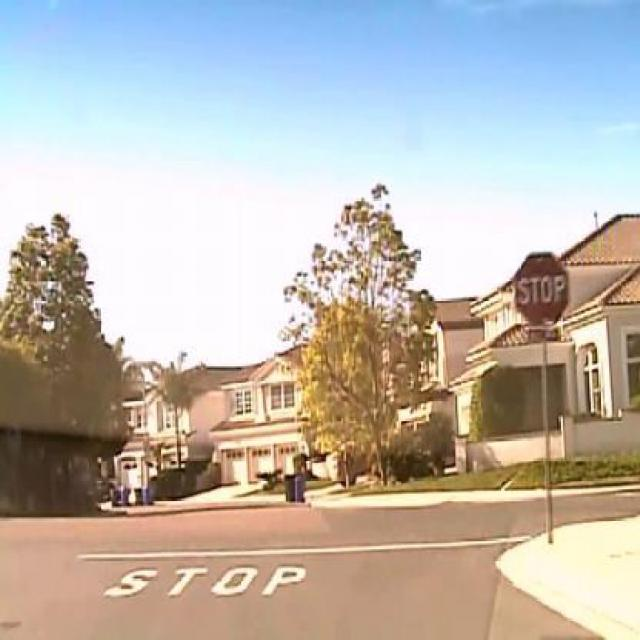Stop: (513, 252, 570, 328)
